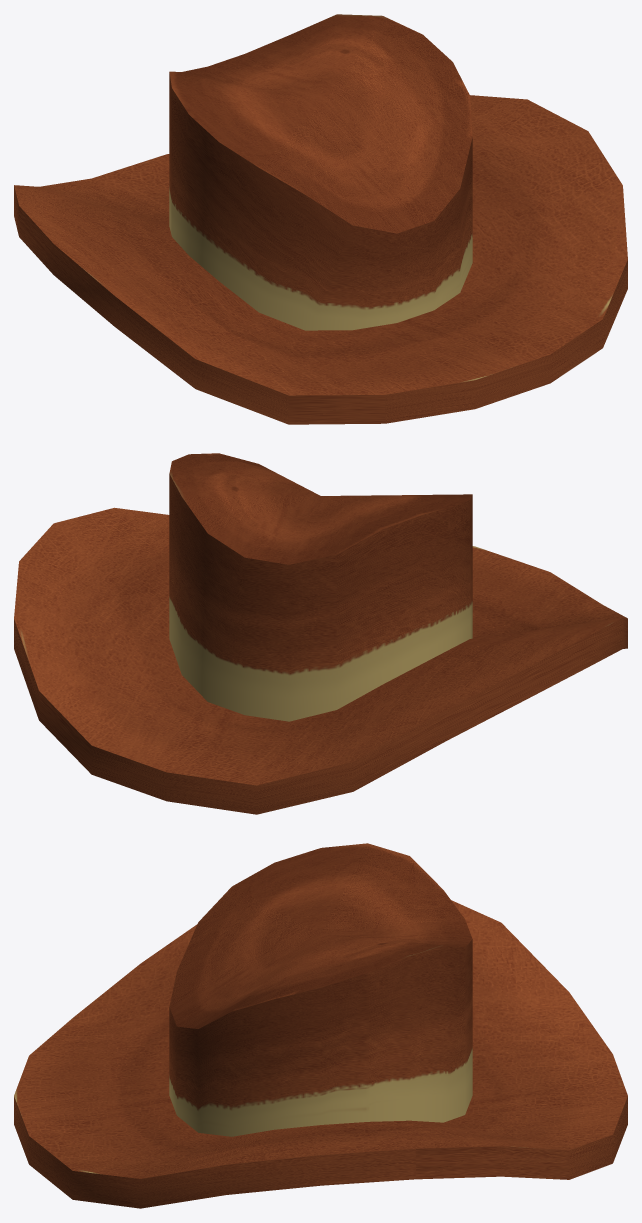
The model's file is PR_Hat_T.fbx.
The picture shows the model from 3 angles, top to bottom: view 1: azimuth 30°, elevation 25°; view 2: azimuth 150°, elevation 25°; view 3: azimuth 270°, elevation 25°; orthographic projection.
Visible parts, largest first — view 1: pCylinder1, pCylinder2; view 2: pCylinder1, pCylinder2; view 3: pCylinder1, pCylinder2.
Part boxes in pixels (x1=…): pCylinder1: x1=14, y1=95, x2=627, y2=424; pCylinder2: x1=169, y1=14, x2=472, y2=330; pCylinder1: x1=14, y1=507, x2=627, y2=814; pCylinder2: x1=169, y1=453, x2=472, y2=721; pCylinder1: x1=14, y1=900, x2=627, y2=1208; pCylinder2: x1=169, y1=843, x2=472, y2=1136.
Bounding box in the file's own units: 4.05 × 1.6 × 4.05.
